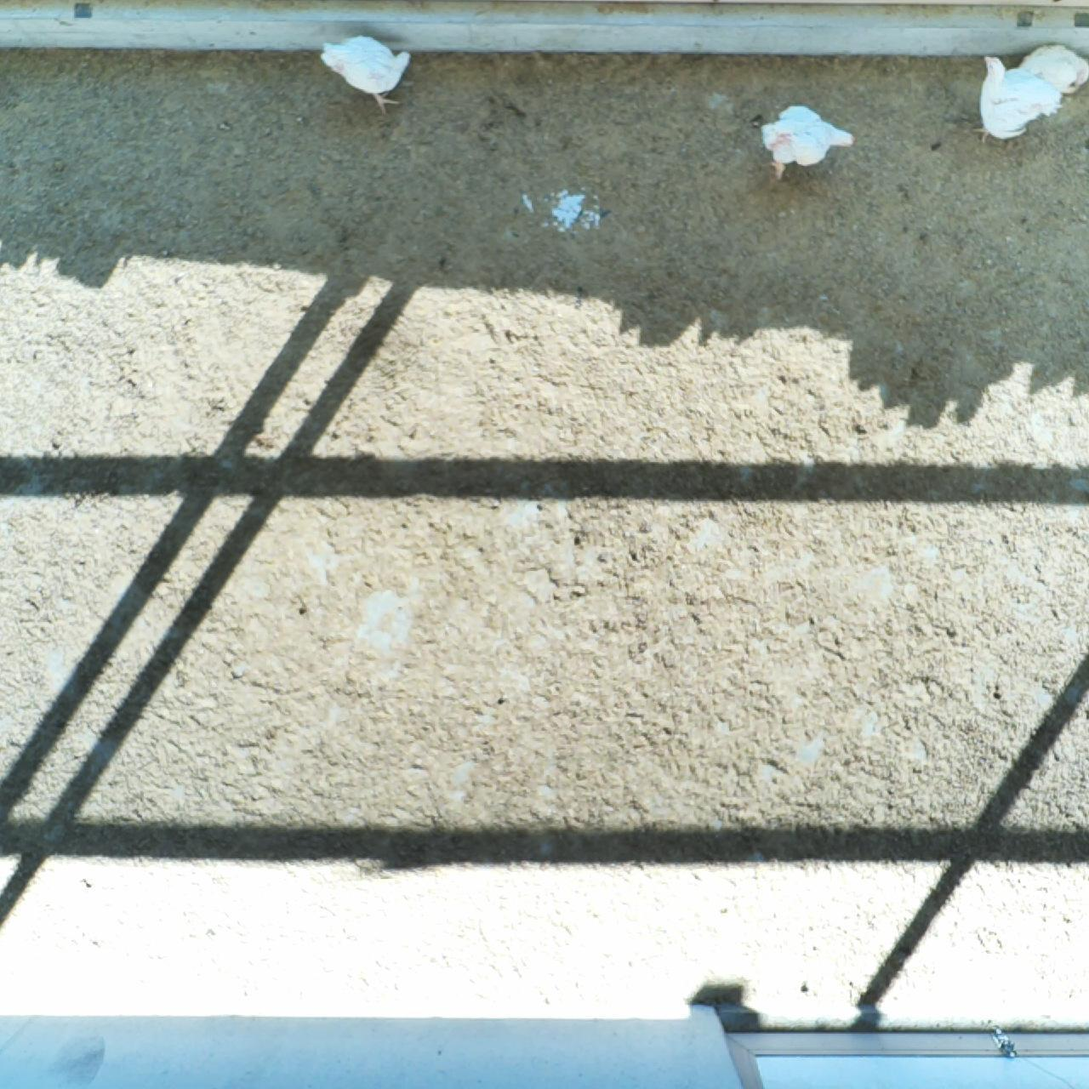chicken: (314, 30, 414, 119), (970, 56, 1064, 144), (756, 103, 857, 181), (1015, 38, 1089, 89)
